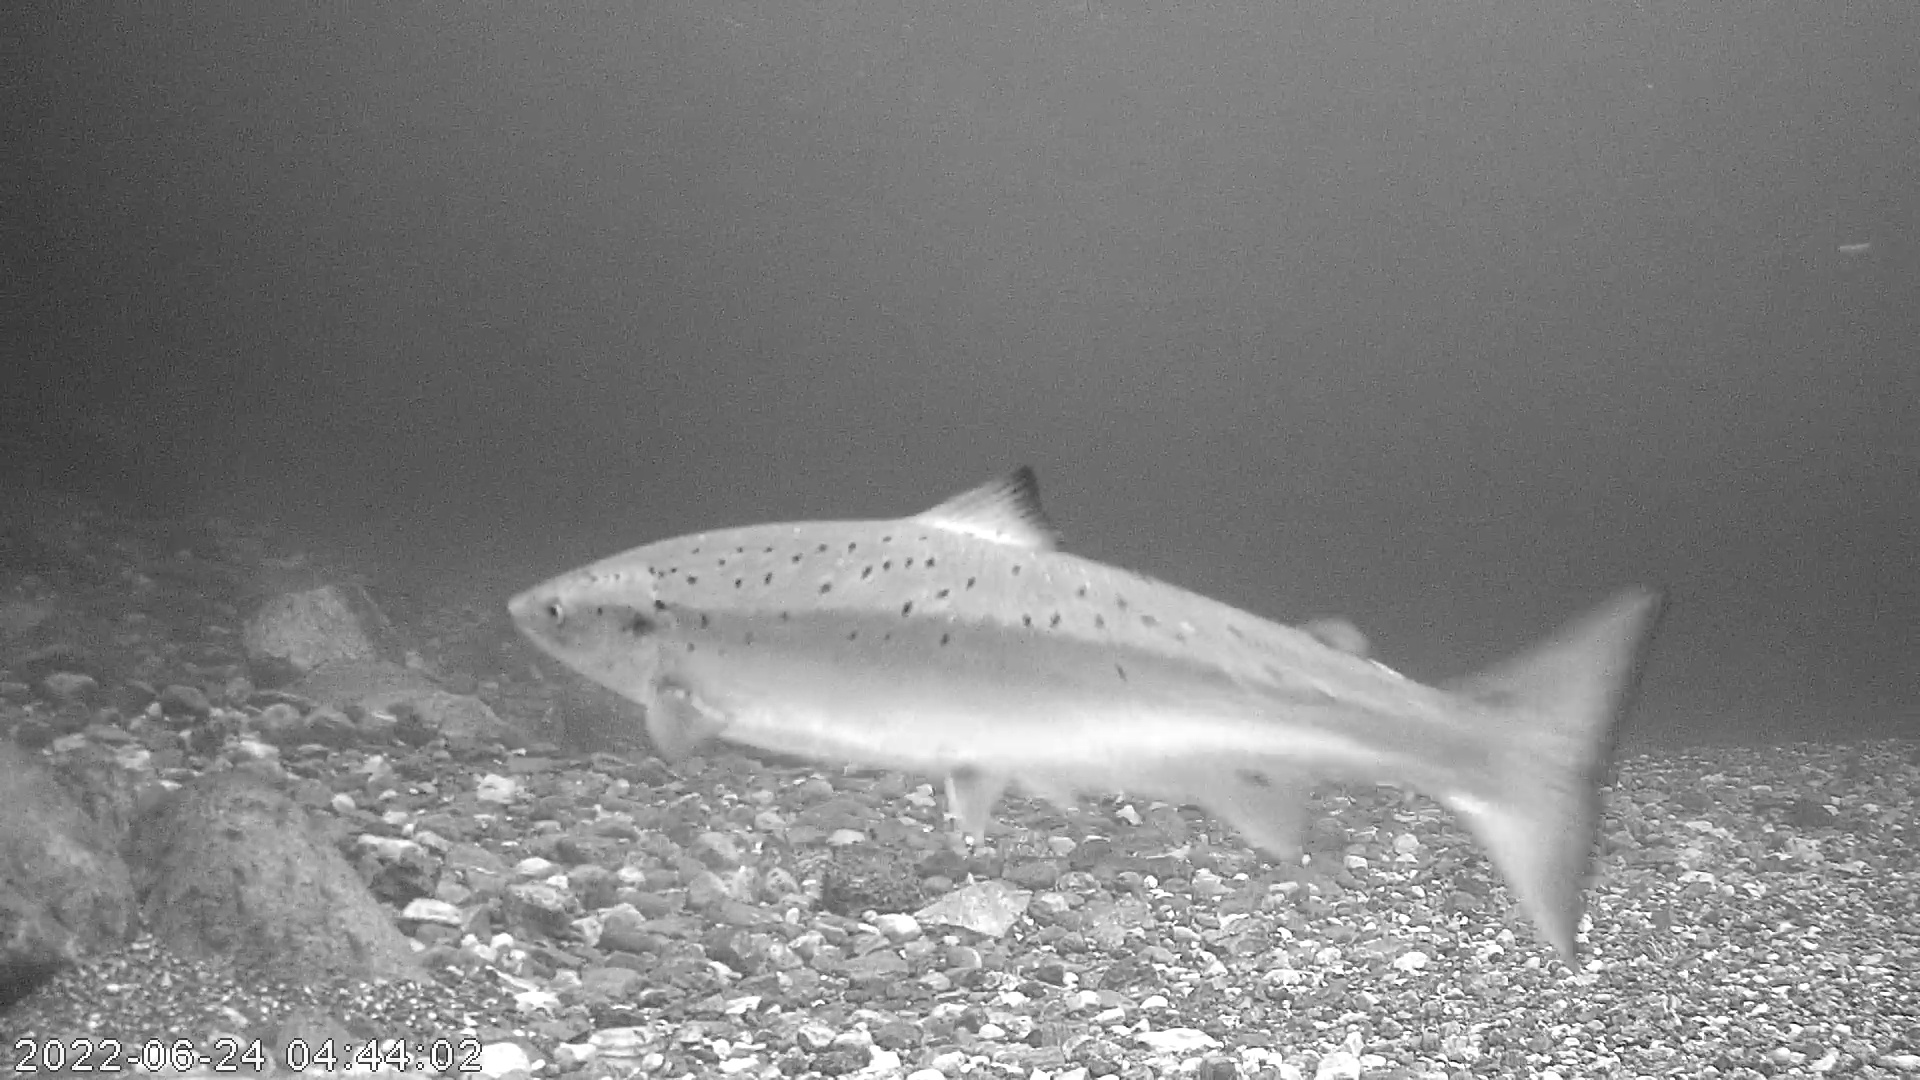salmon: (502, 464, 1667, 964)
